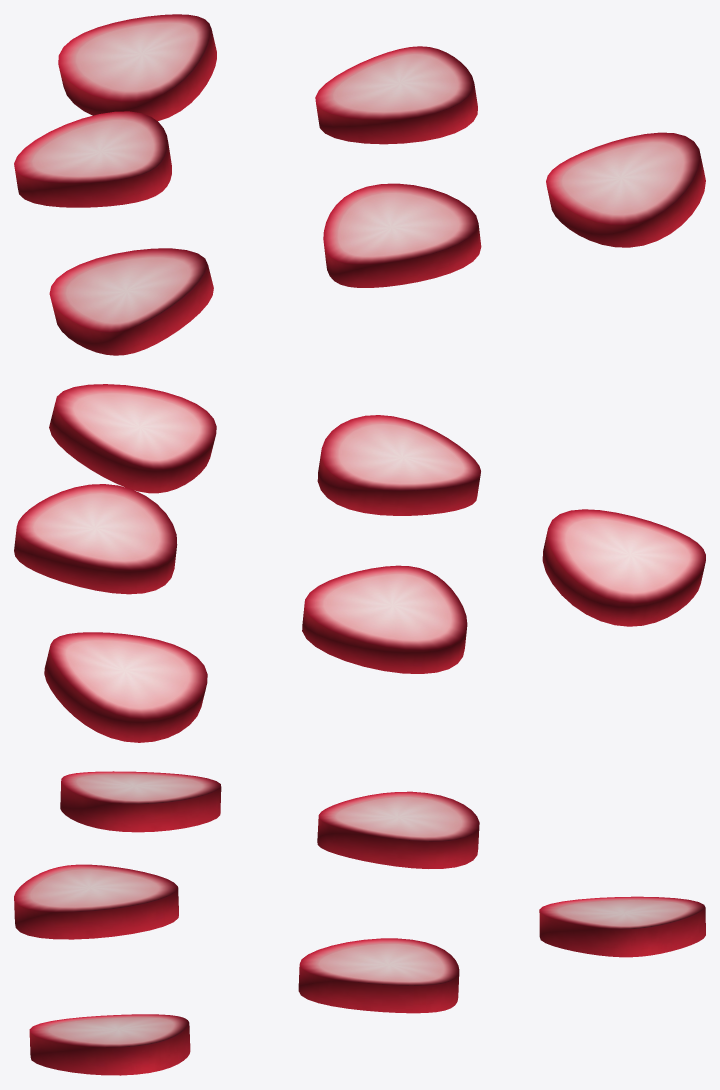
Rendered from morango.glb.
3 renders of one model, top to bottom at view 1: azimuth 30°, elevation 25°; view 2: azimuth 150°, elevation 25°; view 3: azimuth 270°, elevation 25°, orthographic. The views are drawn at different scales.
Visible parts, largest first — view 1: morango; view 2: morango; view 3: morango.
Boxes of the visible parts, x1,y1,x2,y2 form: morango: (14,14,705,355); morango: (14,384,705,742); morango: (14,771,705,1075).
Bounding box in the file's own units: 0.732 × 0.079 × 0.6869.
Materials: 1 (1 with a texture image).
